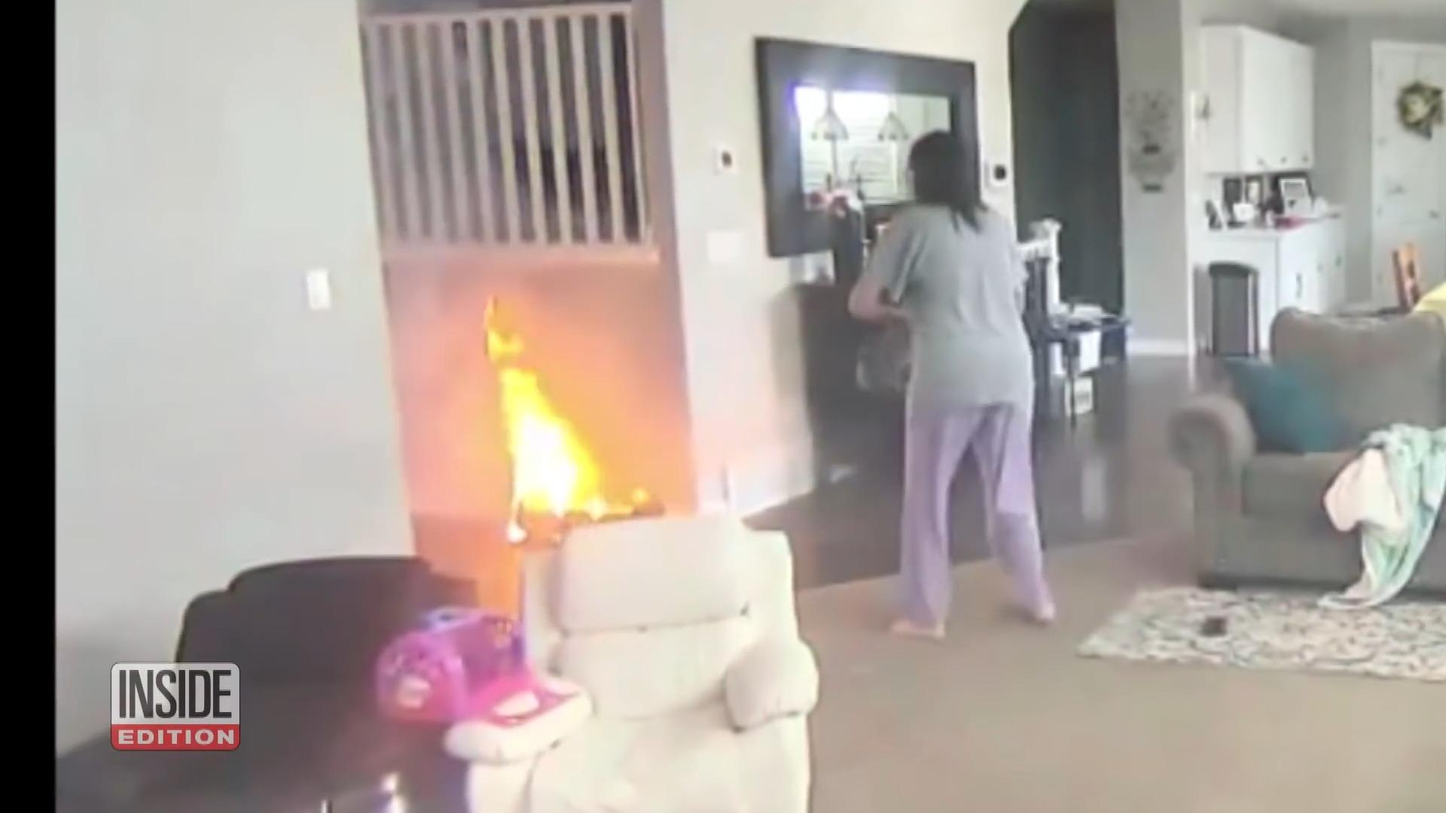fire: (487, 326, 637, 544)
